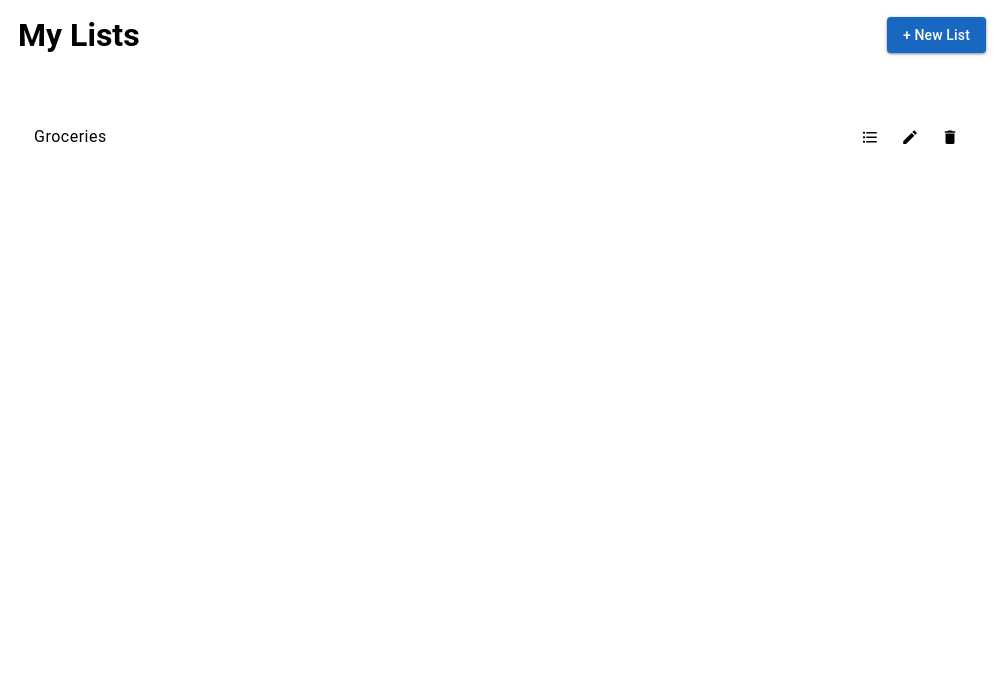
Test: Feature 3 — Todo List Item Management › US-3.1 — Add tasks to a list › User adds a todo to a list via dialog
The width and height of the screenshot is (1005, 685).
Click the button named "View items for Groceries": (870, 137) top-left (850, 117), bottom-right (890, 157)
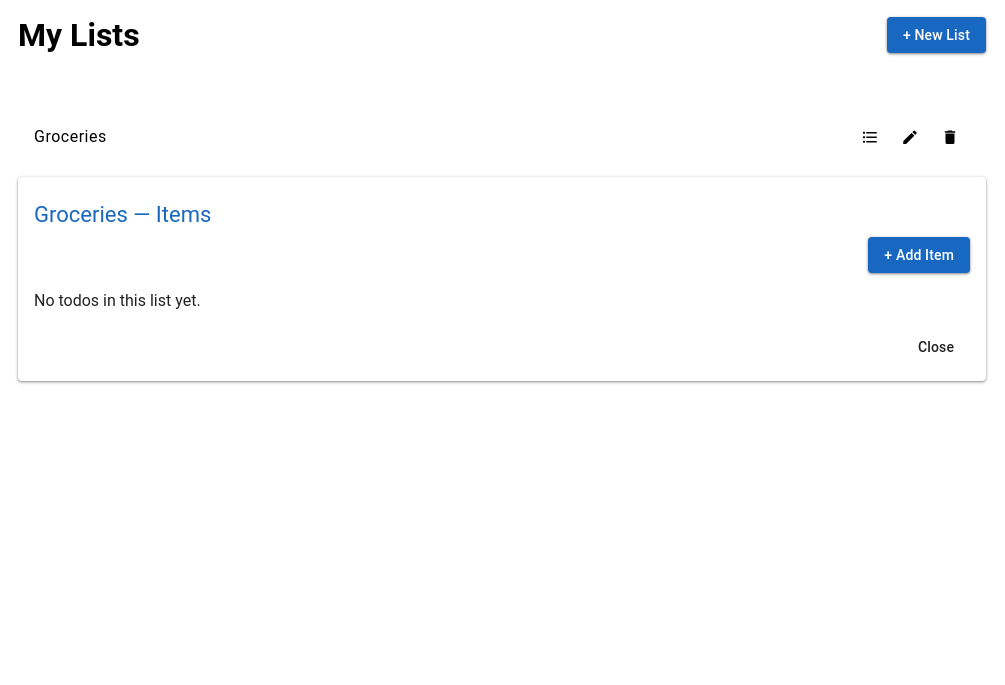
Click the button "+ Add Item": (919, 255) top-left (868, 237), bottom-right (970, 273)
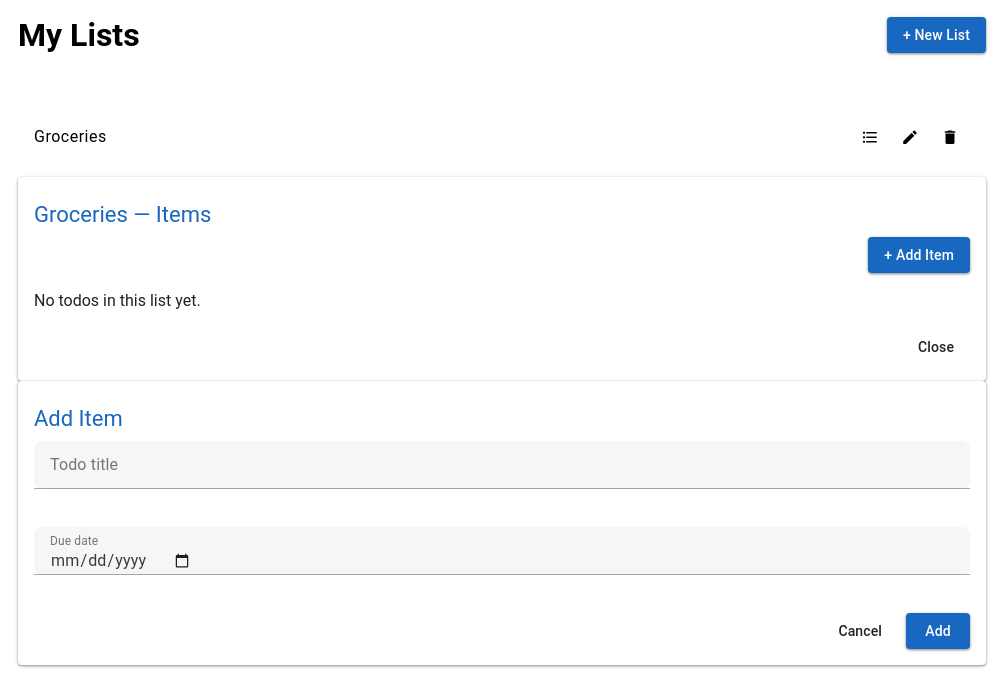
In the field labelled "Todo title": (502, 465) top-left (34, 441), bottom-right (970, 489), type "Buy milk"
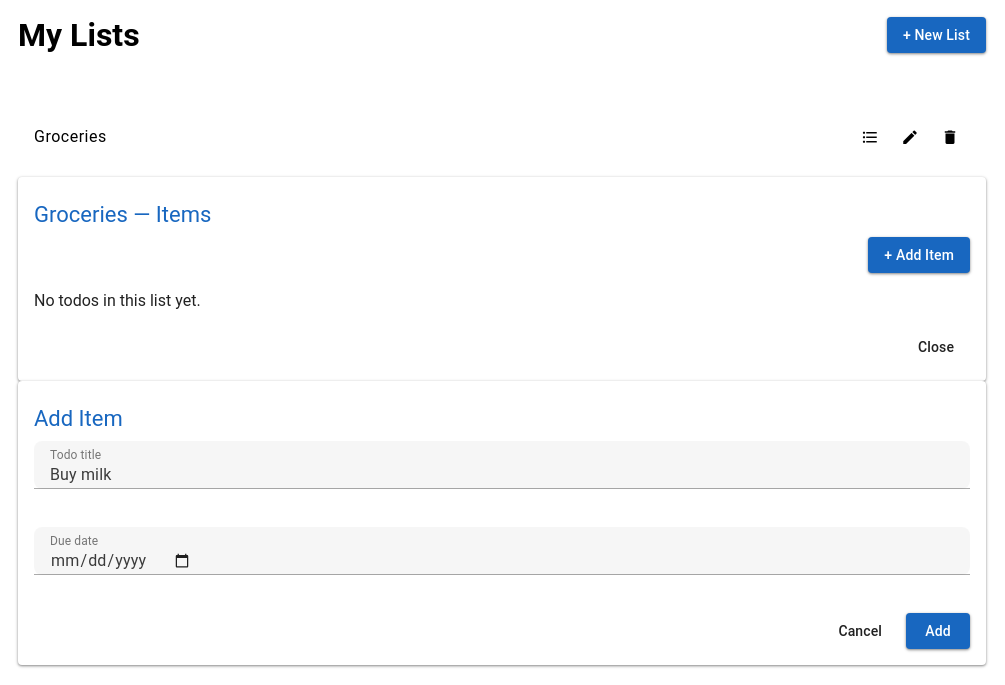
Submit the form, box top-left (34, 441), bottom-right (970, 649)
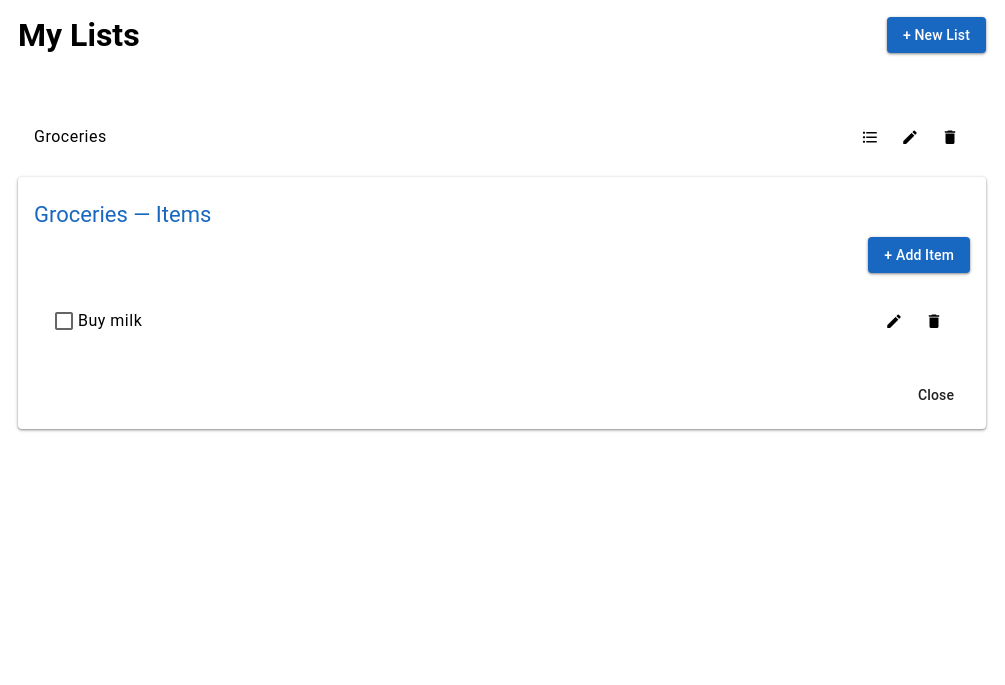
Check: the text "Buy milk" is shown, box top-left (78, 311), bottom-right (142, 330)
